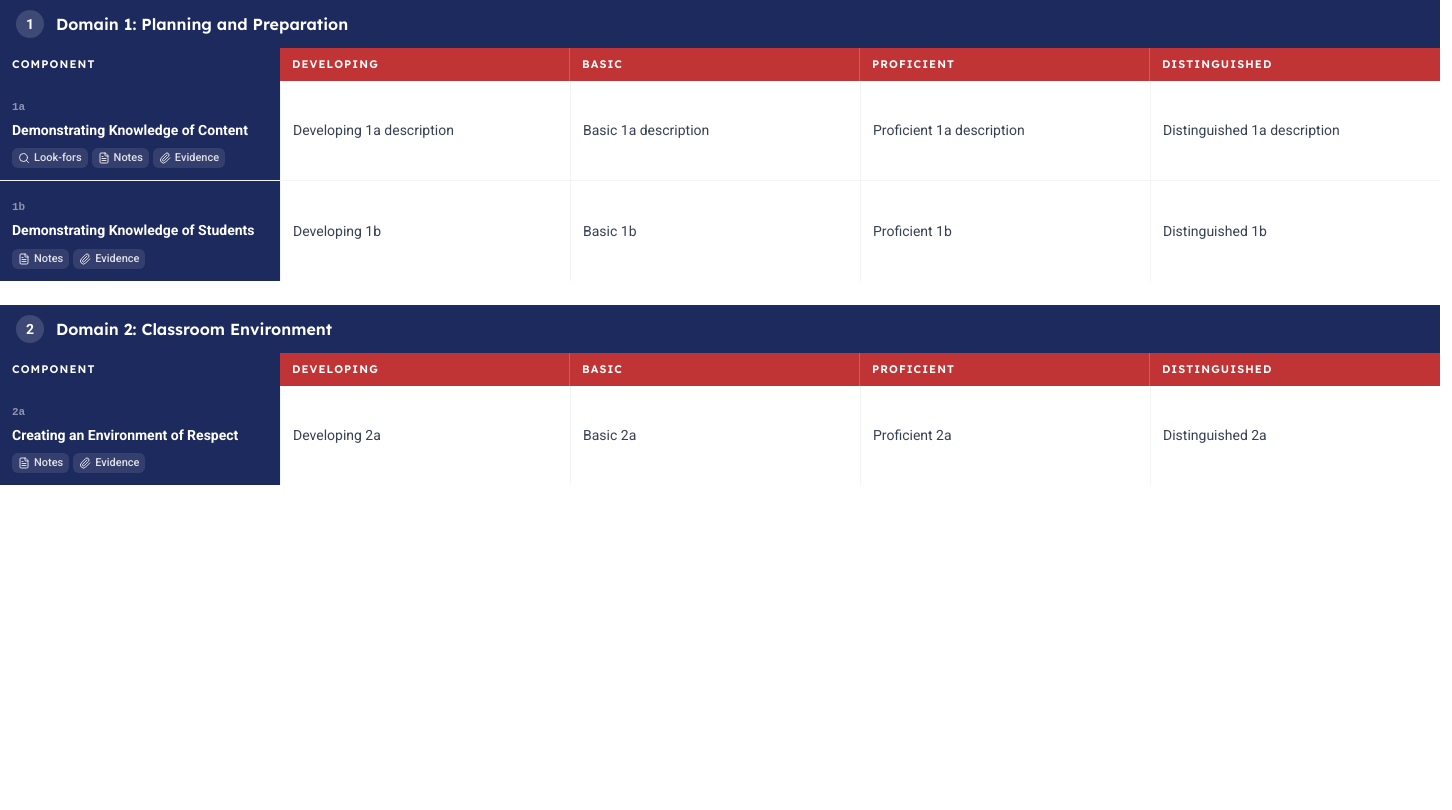
Test: <RubricGrid> edit mode › lazy-mounts Tiptap only when the notes panel is opened
Click the button "Notes" below "Demonstrating Knowledge of Content" at (120, 158), box x1=92 y1=148 x2=149 y2=168
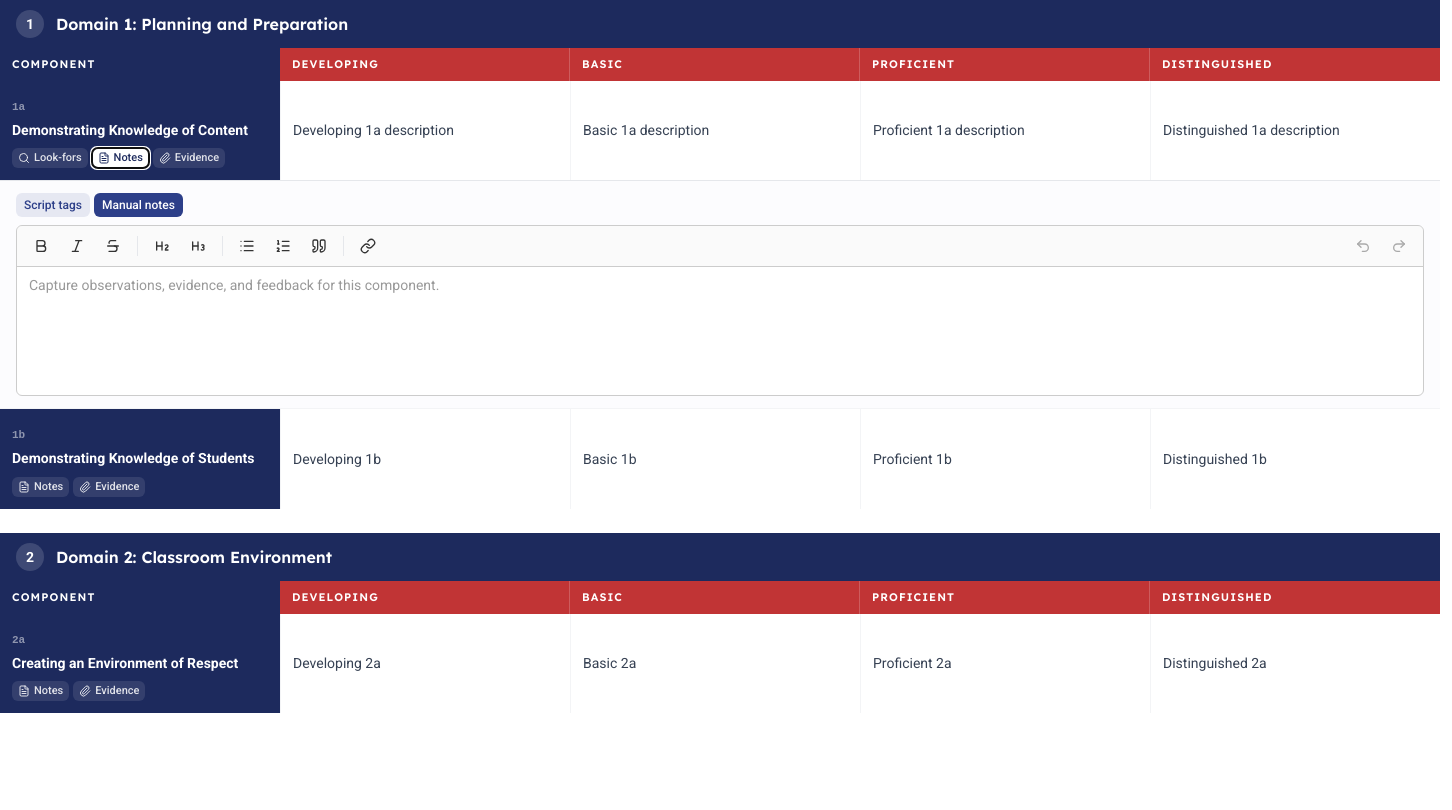
Result: the field is shown at x1=17 y1=267 x2=1423 y2=305
